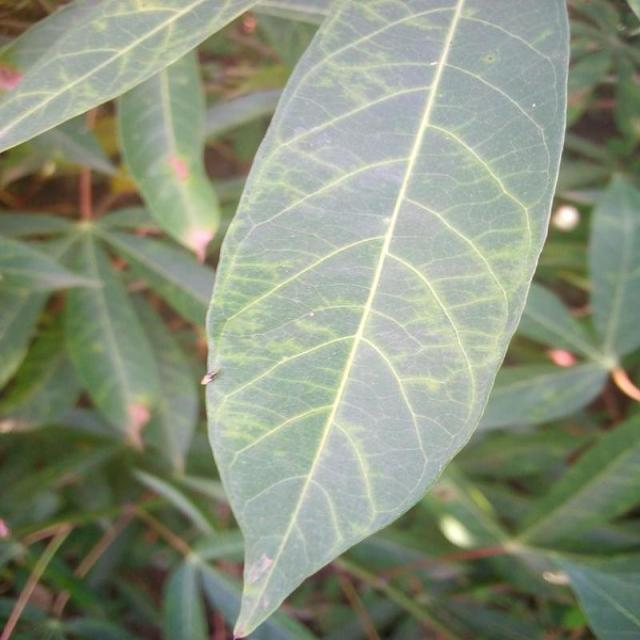cassava leaf: (201, 0, 572, 637)
